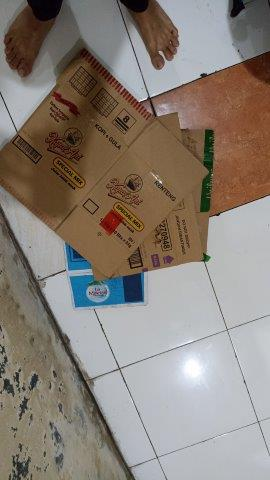kardus: (1, 52, 213, 308)
